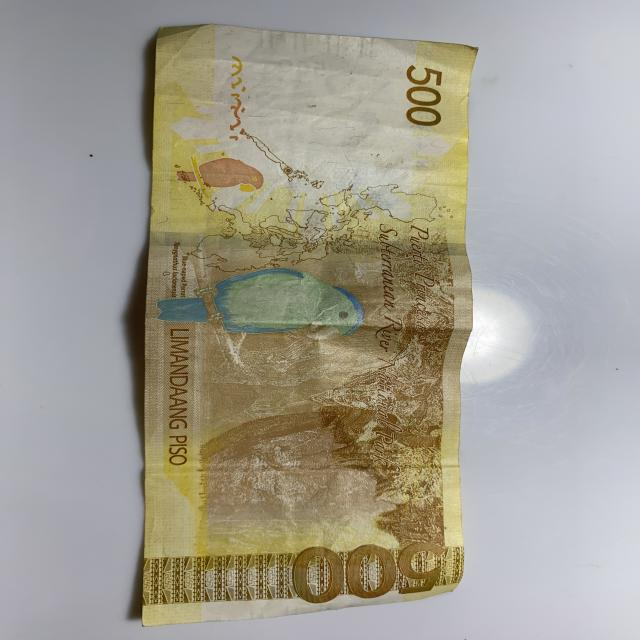500_big_parrot: (160, 268, 363, 342)
500_parrot_watermark: (179, 156, 265, 198)
value_watermark: (277, 57, 327, 78)
